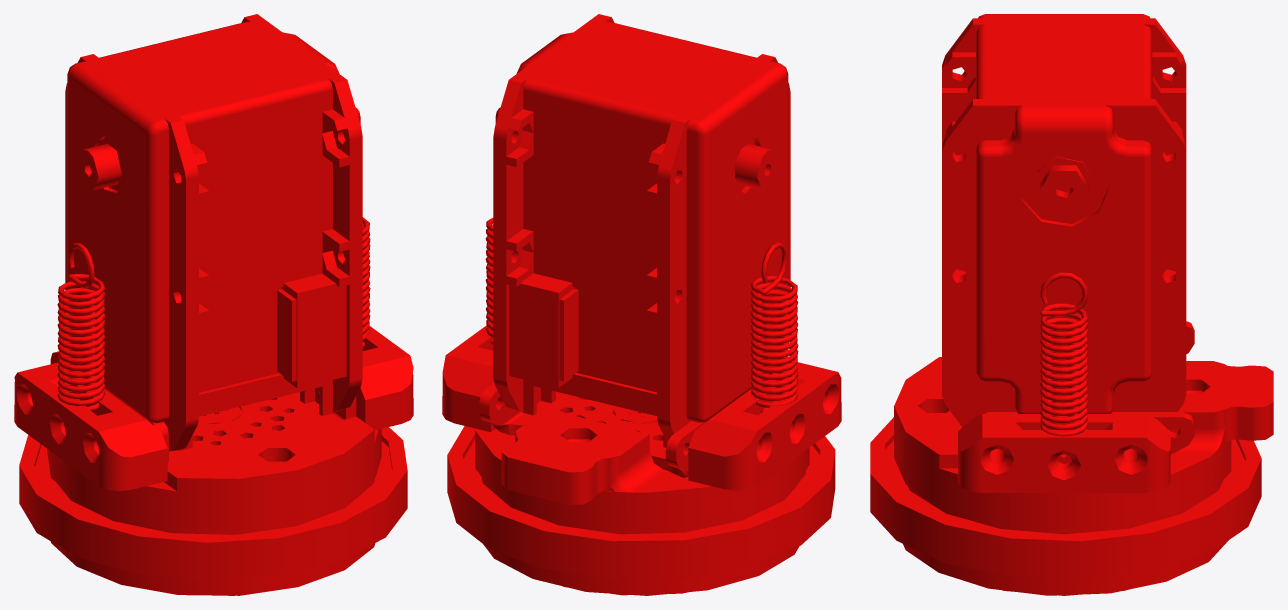
File: Shoulder_Roll.dae
3 renders of one model, left to right at view 1: azimuth 30°, elevation 25°; view 2: azimuth 150°, elevation 25°; view 3: azimuth 270°, elevation 25°, orthographic.
Parts seen in each view (by area): view 1: ShoulderRoll; view 2: ShoulderRoll; view 3: ShoulderRoll.
Part boxes in pixels (x1,y1,x2,y2): ShoulderRoll: [14, 14, 413, 595]; ShoulderRoll: [442, 14, 841, 595]; ShoulderRoll: [870, 14, 1273, 595].
Size of the model in its own units: 0.0647 by 0.093 by 0.0665.
